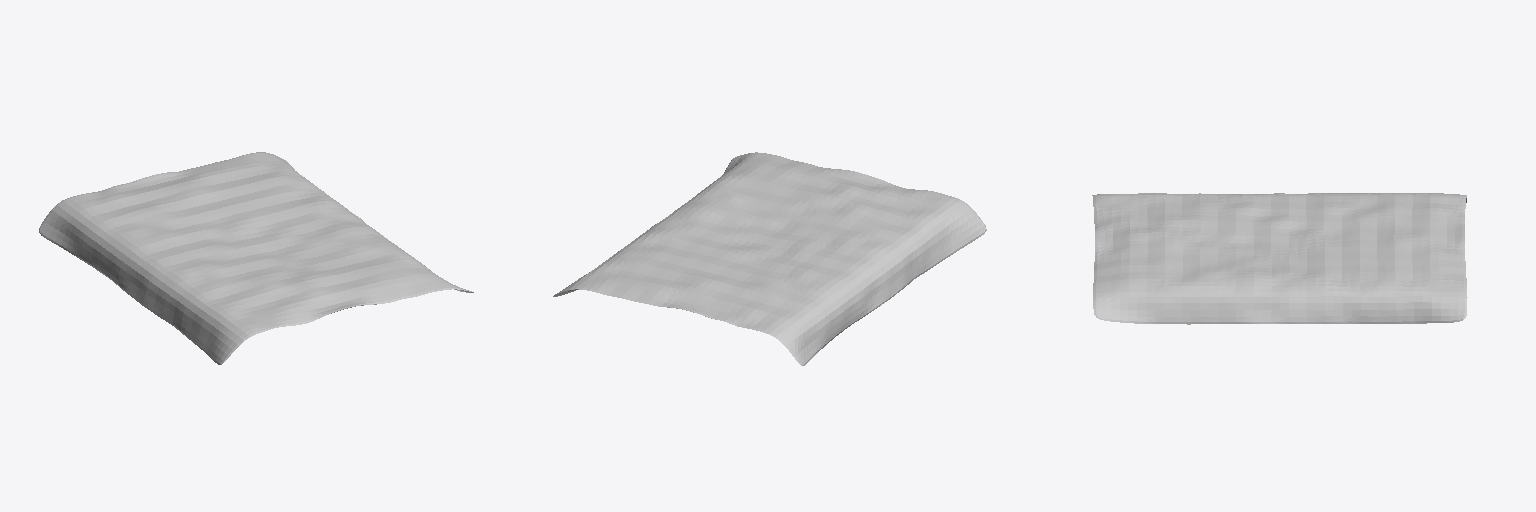
The model's file is Covering.obj.
3 renders of one model, left to right at view 1: azimuth 30°, elevation 25°; view 2: azimuth 150°, elevation 25°; view 3: azimuth 270°, elevation 25°, orthographic.
Visible parts, largest first — view 1: Cube.011; view 2: Cube.011; view 3: Cube.011.
Part boxes in pixels (left/top/right/bottom): Cube.011: left=39, top=152, right=473, bottom=364; Cube.011: left=553, top=152, right=986, bottom=365; Cube.011: left=1092, top=193, right=1467, bottom=324.
Bounding box in the file's own units: 7.72 × 1.11 × 9.88.